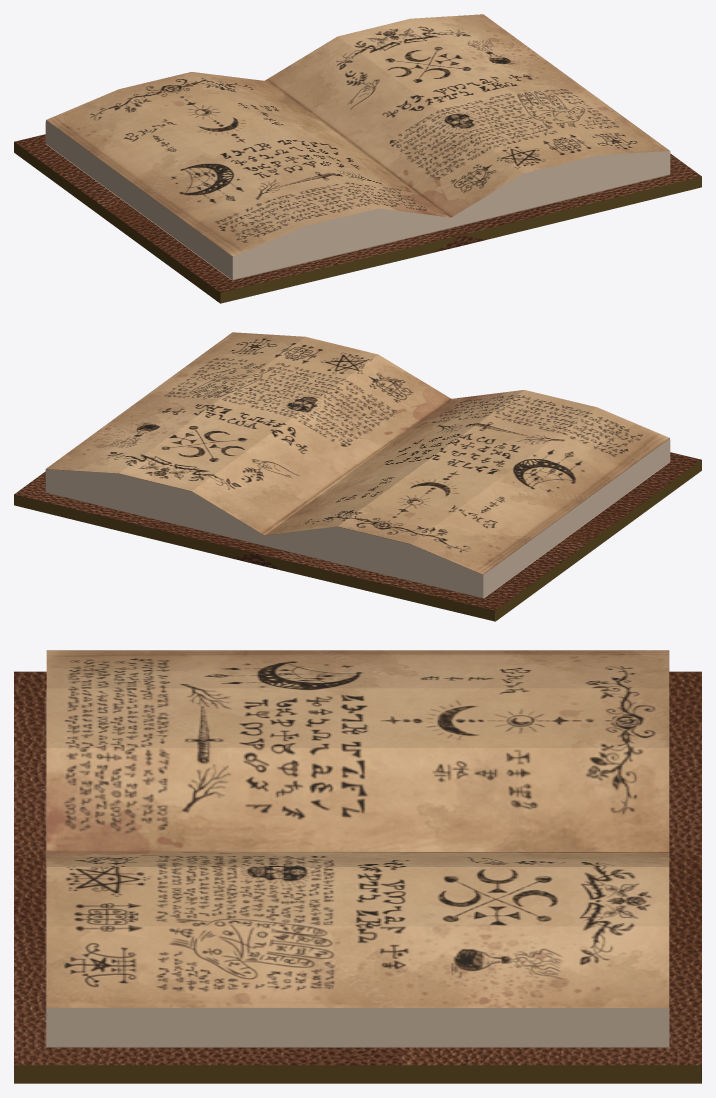
The model's file is book.fbx.
3 renders of one model, top to bottom at view 1: azimuth 30°, elevation 25°; view 2: azimuth 150°, elevation 25°; view 3: azimuth 270°, elevation 25°, orthographic. The views are drawn at different scales.
Visible parts, largest first — view 1: Plane; view 2: Plane; view 3: Plane.
Boxes of the visible parts, x1,y1,x2,y2 form: Plane: (14,14,701,303); Plane: (14,332,701,621); Plane: (14,650,701,1083).
Bounding box in the file's own units: 276 × 26.54 × 205.
